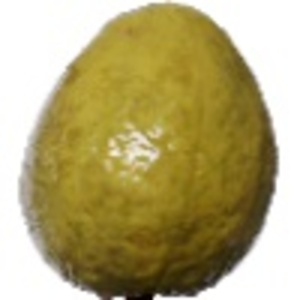goiaba: (8, 5, 283, 291)
